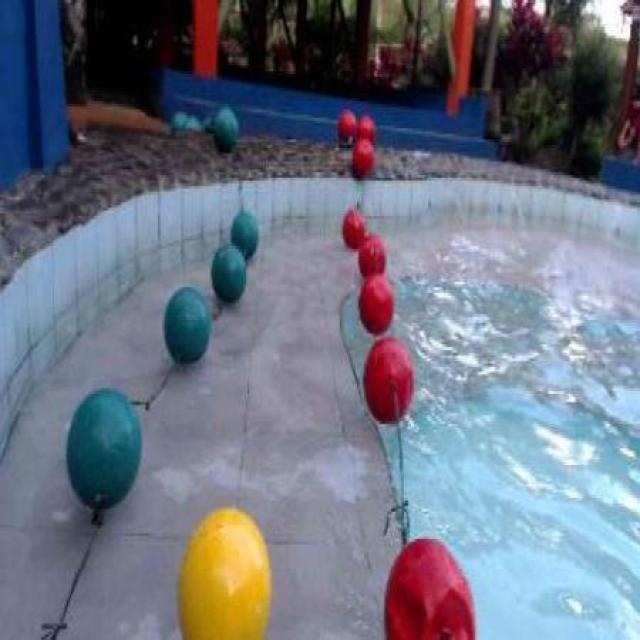buoy: (177, 505, 270, 638), (64, 387, 142, 510), (384, 533, 474, 637), (363, 335, 414, 426), (162, 286, 212, 365), (357, 272, 394, 335), (210, 243, 247, 305), (230, 210, 260, 260), (356, 231, 386, 278), (211, 106, 238, 150), (342, 206, 366, 248), (351, 136, 373, 175), (356, 111, 374, 146)
